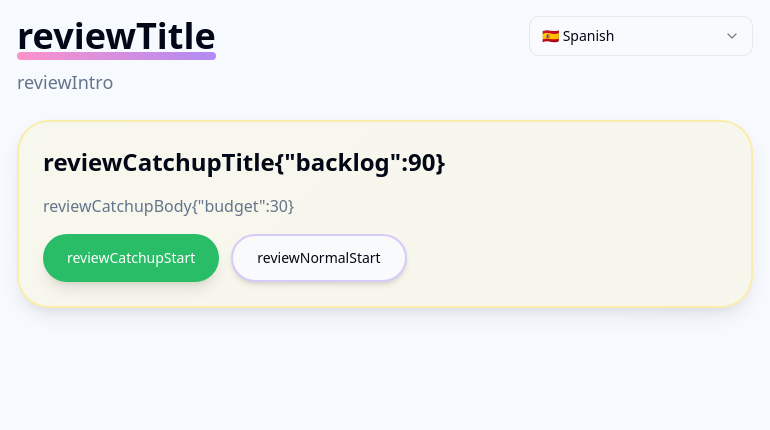
Test: ReviewPage › lets the learner review normally despite a backlog, without another request
This screenshot has width=770, height=430.
Check: the element with test id "catchup-offer" is shown, box [17, 120, 753, 308]
Click the button "reviewNormalStart". click: [319, 258]
box: [231, 234, 407, 282]
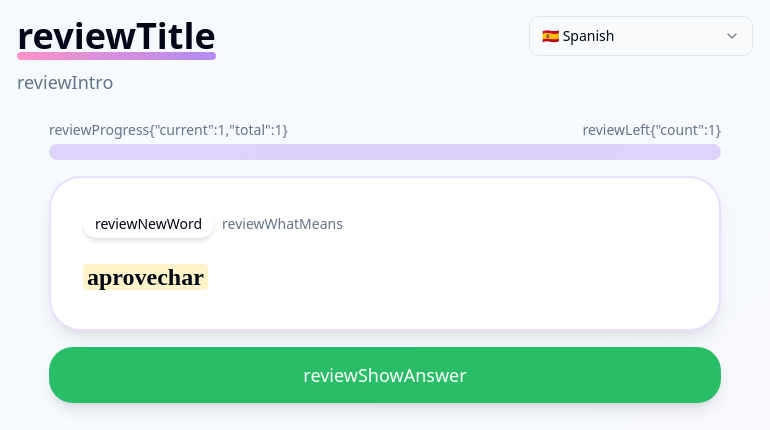
Check: the element with test id "review-session" is shown, box [49, 120, 721, 403]
